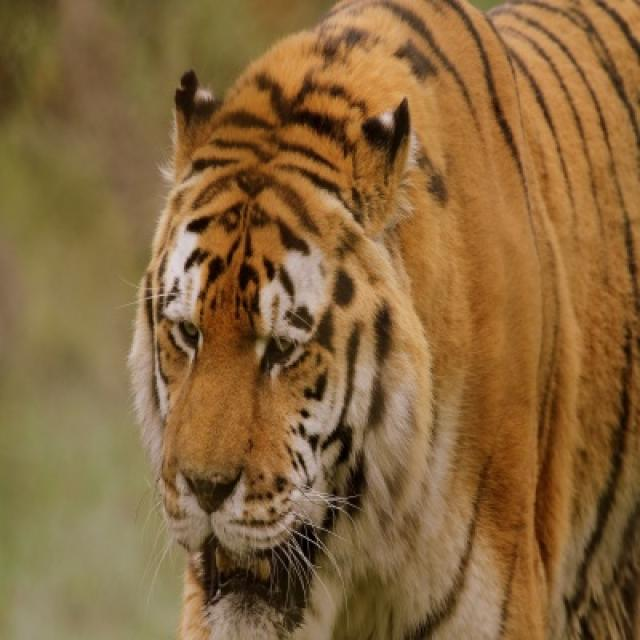Tiger: (132, 0, 638, 638)
